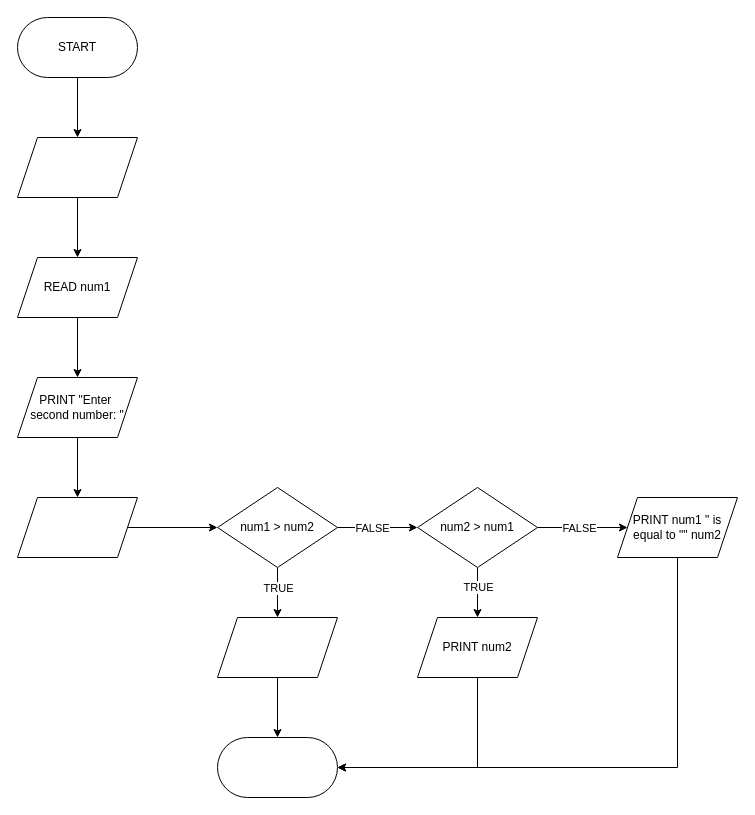
The diagram is 755 pixels wide and 815 high, and some of its shapes have lost their labels. Here are the shapes that lost their labels. From the top down, the centre of each, then its label:
point 77,167: PRINT "Enter first number: "
point 77,527: READ num2
point 277,647: PRINT num1
point 277,767: END
